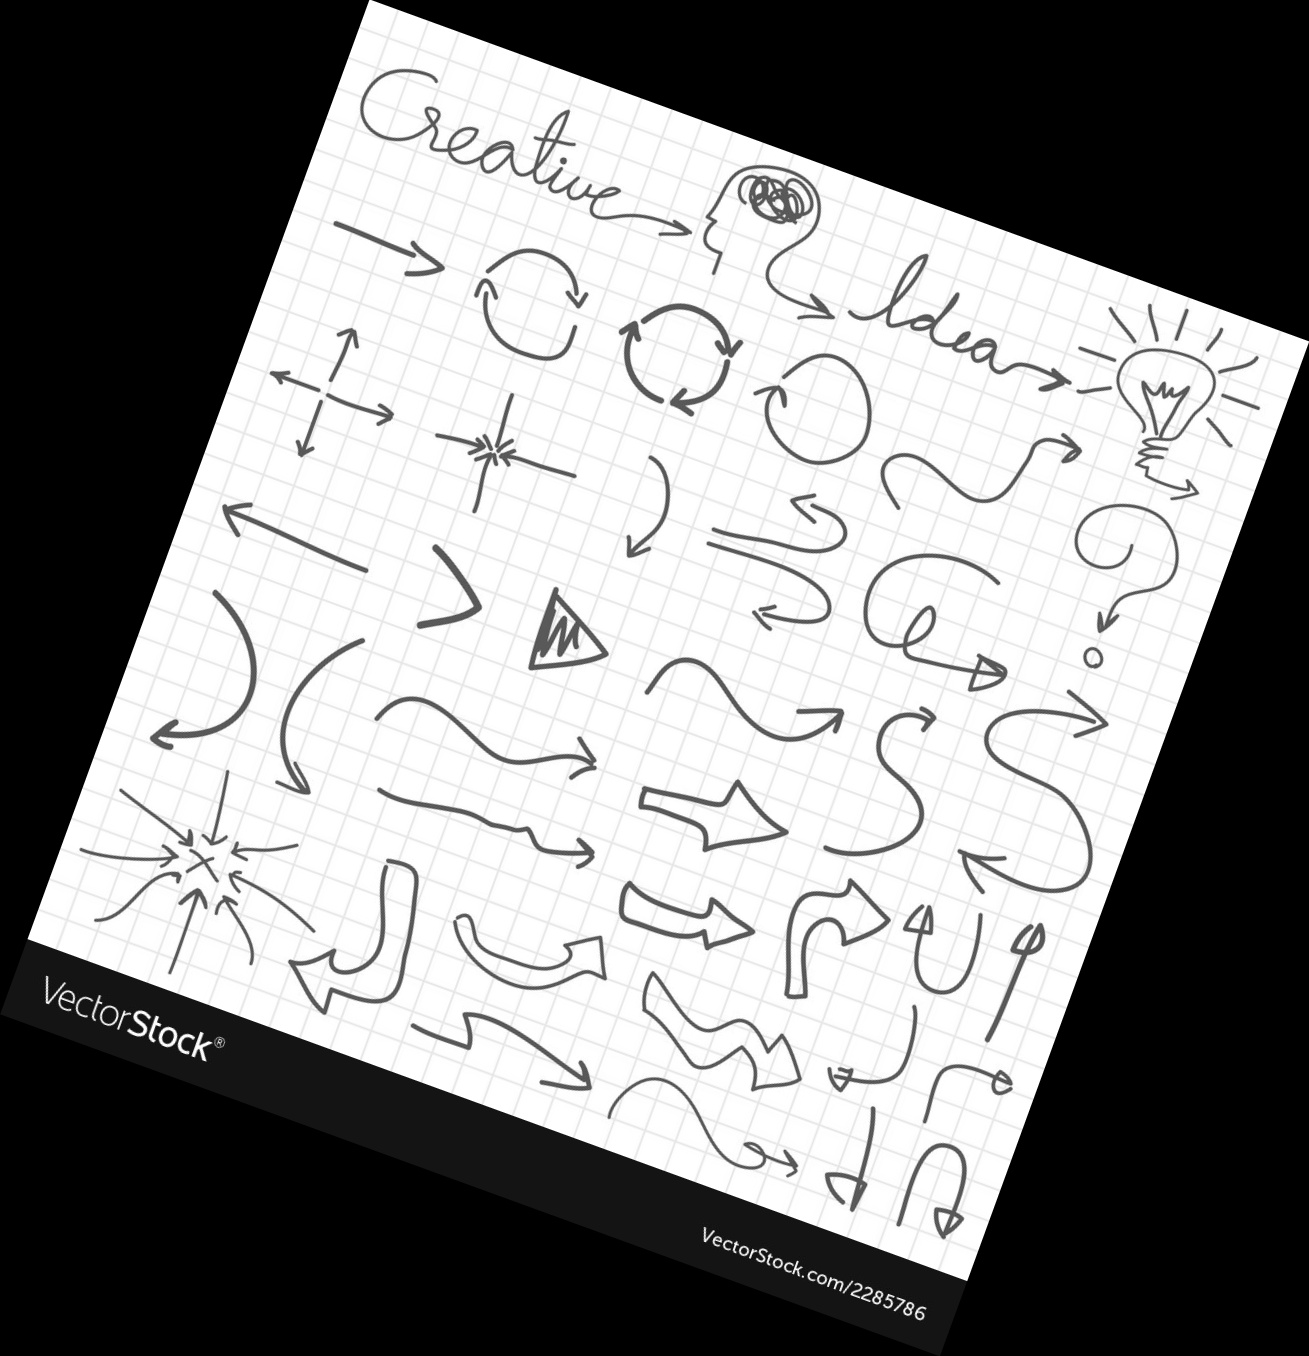arrow: (622, 765, 800, 868), (596, 873, 768, 956), (392, 529, 495, 651), (279, 926, 379, 1022), (711, 1005, 804, 1107), (513, 926, 616, 1000), (211, 492, 310, 558), (949, 837, 1030, 908), (532, 1019, 599, 1102), (527, 732, 613, 797), (823, 1122, 873, 1233), (993, 915, 1050, 1011), (266, 716, 320, 808), (936, 645, 1016, 705), (771, 695, 850, 754), (139, 705, 225, 758), (379, 229, 453, 288), (656, 373, 733, 430), (925, 1170, 974, 1257), (945, 1048, 1016, 1105), (222, 862, 298, 915), (773, 485, 856, 534), (753, 383, 804, 461), (892, 895, 942, 975), (541, 820, 609, 877), (750, 593, 823, 645), (621, 504, 671, 576), (467, 278, 513, 355), (622, 203, 699, 248), (1010, 350, 1075, 402), (820, 1052, 889, 1101), (539, 254, 595, 314), (774, 277, 836, 331), (171, 884, 214, 959), (767, 1133, 810, 1203), (140, 801, 203, 850), (877, 699, 942, 745), (282, 413, 332, 473), (691, 312, 750, 363), (338, 387, 402, 433), (1030, 418, 1087, 469), (102, 840, 195, 871), (191, 783, 229, 858), (1086, 584, 1133, 640), (209, 894, 256, 950), (610, 318, 645, 391), (220, 827, 279, 862), (335, 323, 368, 377), (260, 364, 318, 393)
